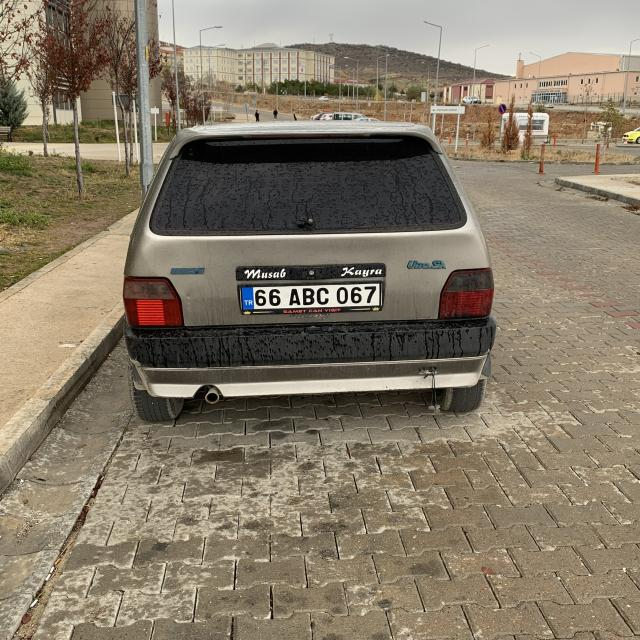license_plate: (239, 282, 382, 309)
